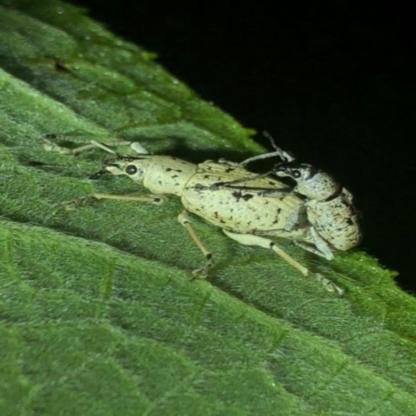ash weevil: (98, 138, 340, 291), (272, 157, 361, 263)
